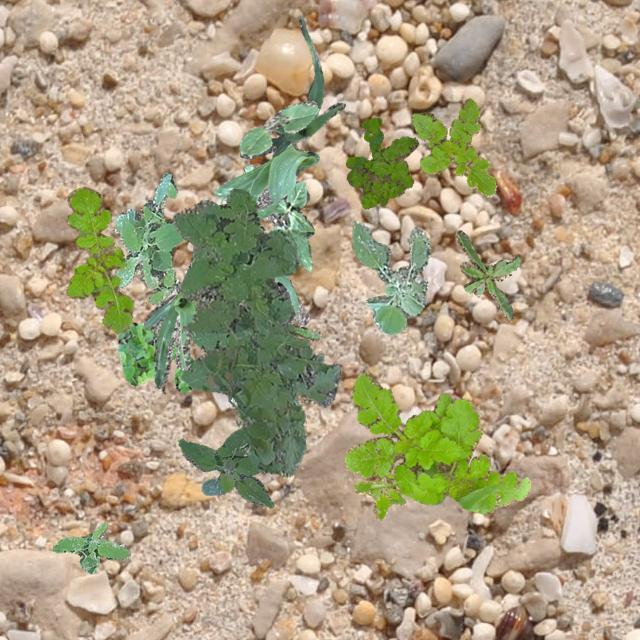crop: (144, 274, 308, 388), (238, 14, 344, 158), (212, 142, 318, 218), (242, 164, 314, 270), (238, 100, 318, 158)
weed: (172, 188, 340, 477), (342, 372, 530, 512), (64, 185, 132, 332), (112, 172, 184, 304), (350, 220, 430, 334), (410, 98, 496, 196), (178, 427, 272, 508), (344, 116, 418, 208), (454, 230, 520, 320), (116, 322, 194, 392), (52, 522, 130, 572), (352, 472, 404, 520), (288, 322, 320, 338)
